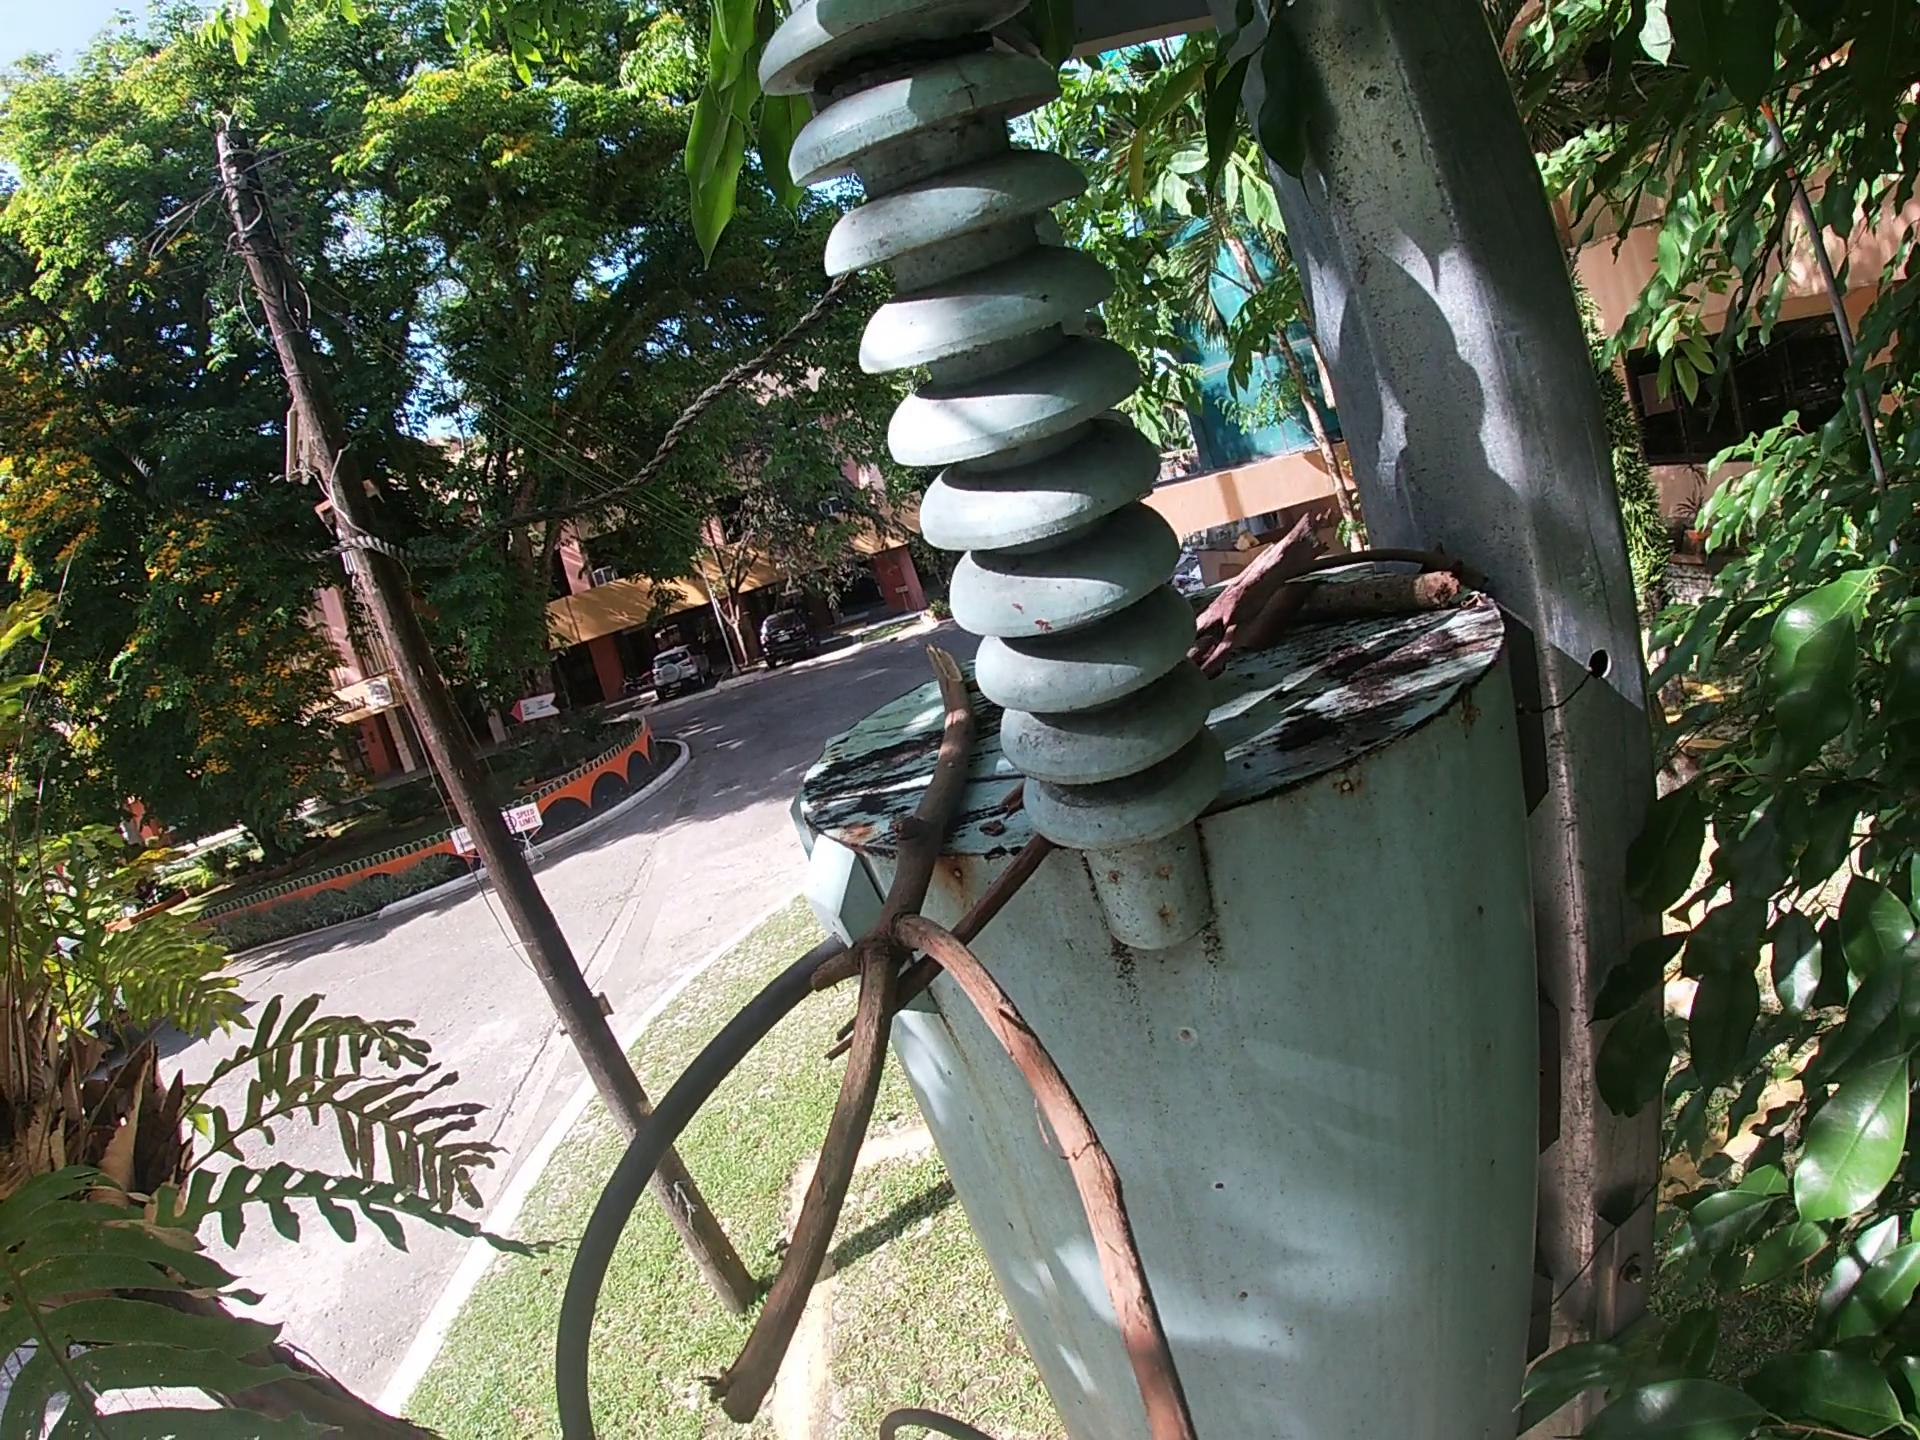leaf: (1231, 576, 1329, 656)
tree branch: (677, 623, 1219, 1440), (818, 818, 1066, 1072), (1184, 495, 1346, 676), (1243, 564, 1468, 635), (1302, 543, 1494, 588)
